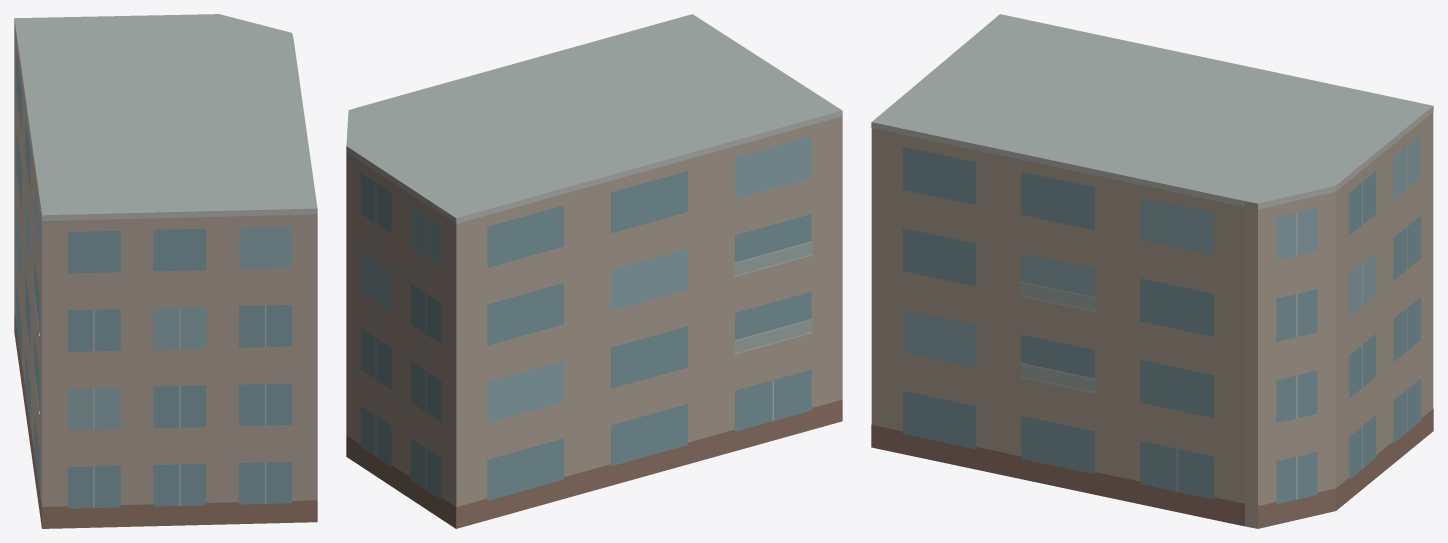
Rendered from survey-upis-32723457.glb.
3 views of the same model, side by side, from view 1: azimuth 30°, elevation 25°; view 2: azimuth 150°, elevation 25°; view 3: azimuth 270°, elevation 25° (orthographic). The views are drawn at different scales.
Visible parts, largest first — view 1: survey-upis-32723457.tmp; view 2: survey-upis-32723457.tmp; view 3: survey-upis-32723457.tmp.
Boxes of the visible parts, <box> form: survey-upis-32723457.tmp: <box>14,14,317,528</box>; survey-upis-32723457.tmp: <box>346,14,842,528</box>; survey-upis-32723457.tmp: <box>871,14,1433,528</box>.
Bounding box in the file's own units: 16.57 × 13.25 × 20.75.
